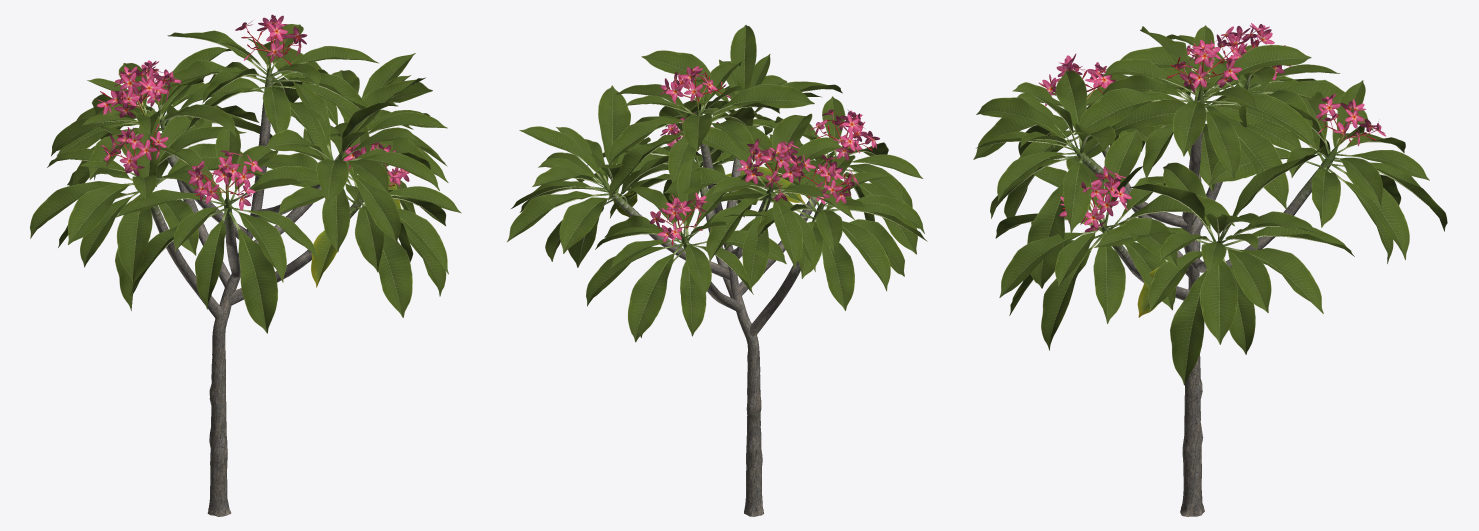
File: realistic_hd_frangipani_tree_150.glb
The picture shows the model from 3 angles, left to right: view 1: azimuth 30°, elevation 25°; view 2: azimuth 150°, elevation 25°; view 3: azimuth 270°, elevation 25°; orthographic projection. The views are drawn at different scales.
Visible parts, largest first — view 1: Plumeria_rubra_pink_HD; view 2: Plumeria_rubra_pink_HD; view 3: Plumeria_rubra_pink_HD.
Part boxes in pixels (bbox=[...]): Plumeria_rubra_pink_HD: bbox=[30, 14, 461, 516]; Plumeria_rubra_pink_HD: bbox=[507, 25, 927, 516]; Plumeria_rubra_pink_HD: bbox=[973, 23, 1447, 516].
Size of the model in its own units: 1.74 by 1.85 by 1.68.
8 materials, 8 textured.
